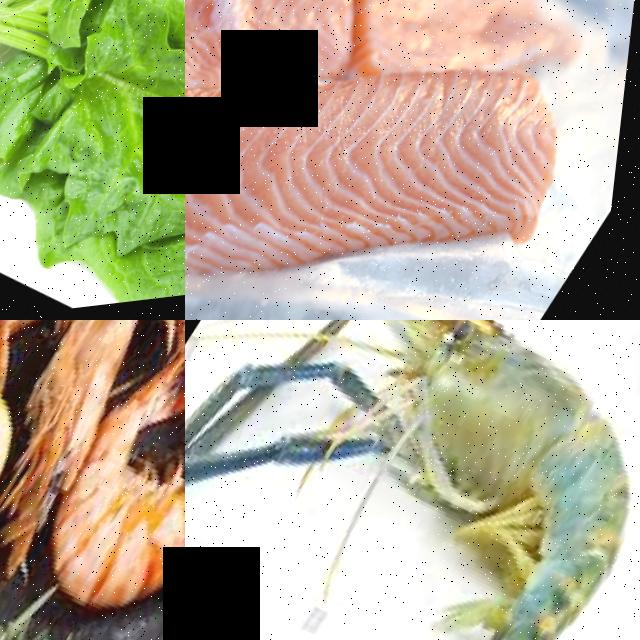lemon: (0, 342, 52, 616)
salmon: (242, 0, 616, 320), (185, 0, 309, 320), (185, 0, 381, 153)
shrimp: (185, 320, 640, 640), (21, 370, 185, 640), (0, 320, 185, 445)
spinach: (36, 0, 185, 275)
